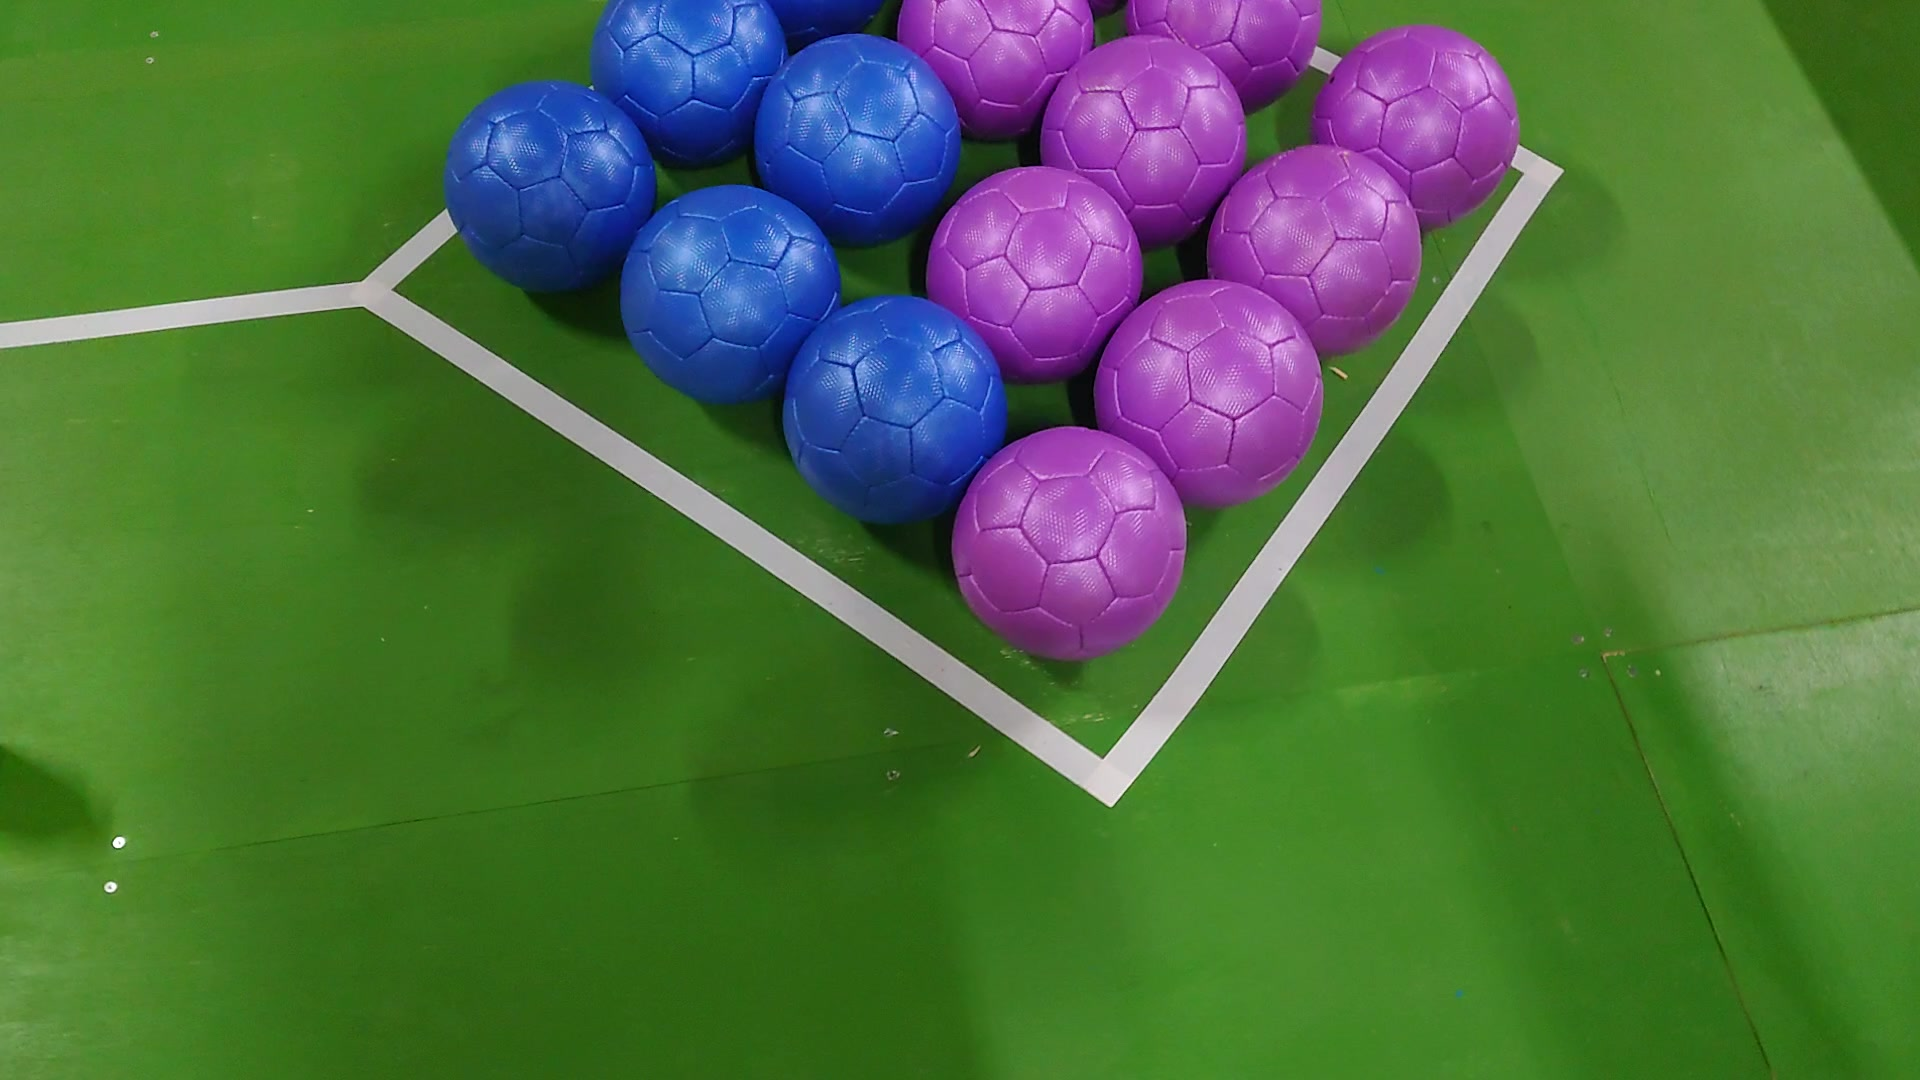blue: (783, 294, 1006, 526), (617, 186, 843, 398), (444, 78, 659, 290), (752, 33, 967, 241), (588, 3, 787, 157)
purple: (947, 425, 1185, 659), (1095, 281, 1325, 502), (920, 164, 1139, 382), (1038, 33, 1247, 239), (1208, 144, 1424, 343), (1309, 26, 1518, 219), (894, 0, 1097, 131), (1124, 0, 1323, 111)
